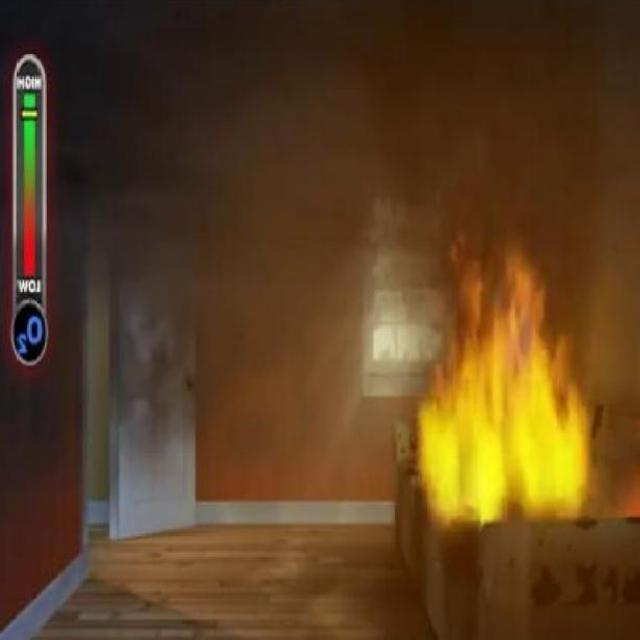smoke: (405, 233, 601, 532)
